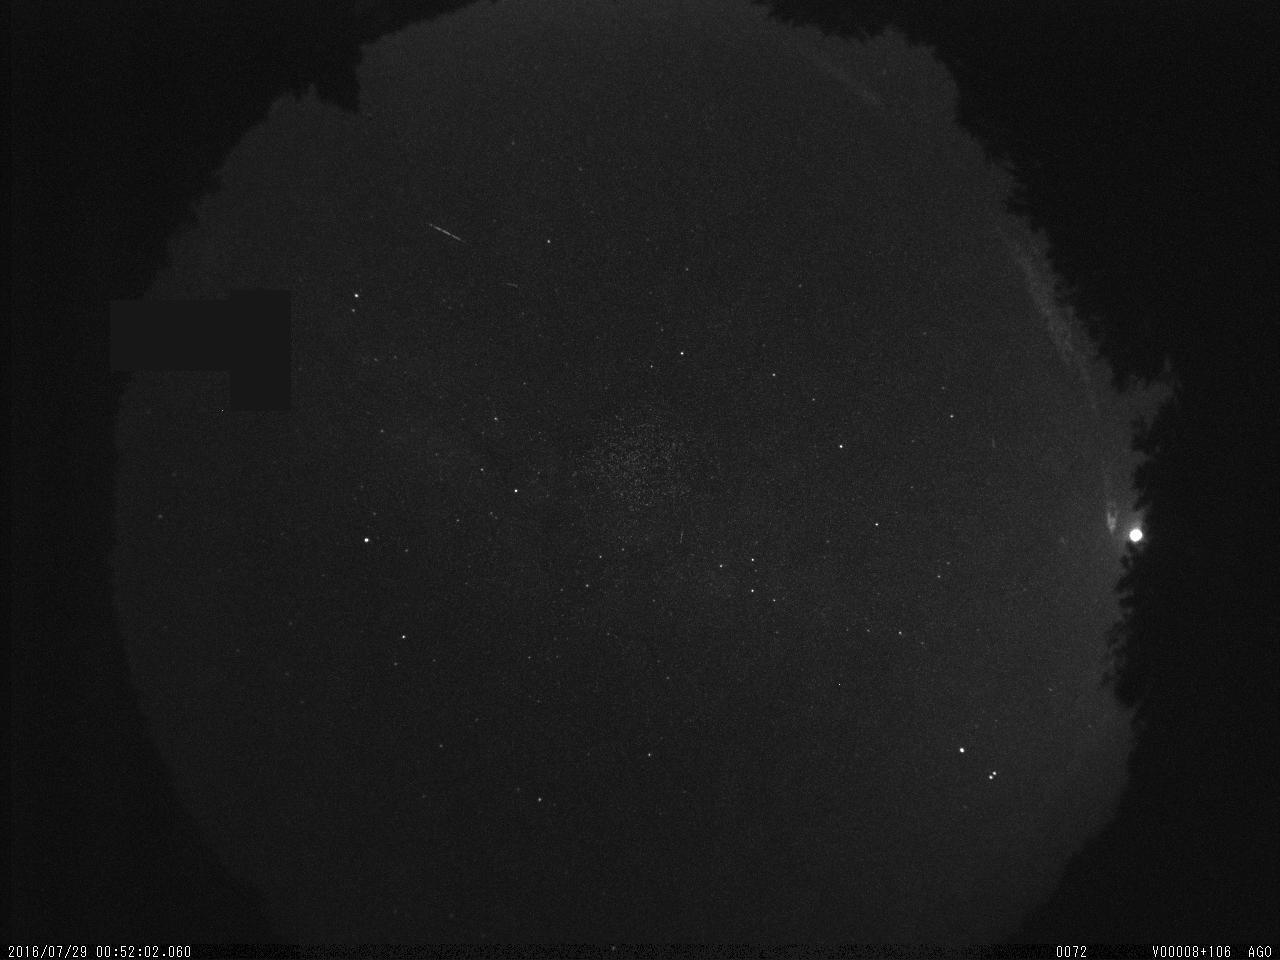meteor: (418, 213, 476, 252)
